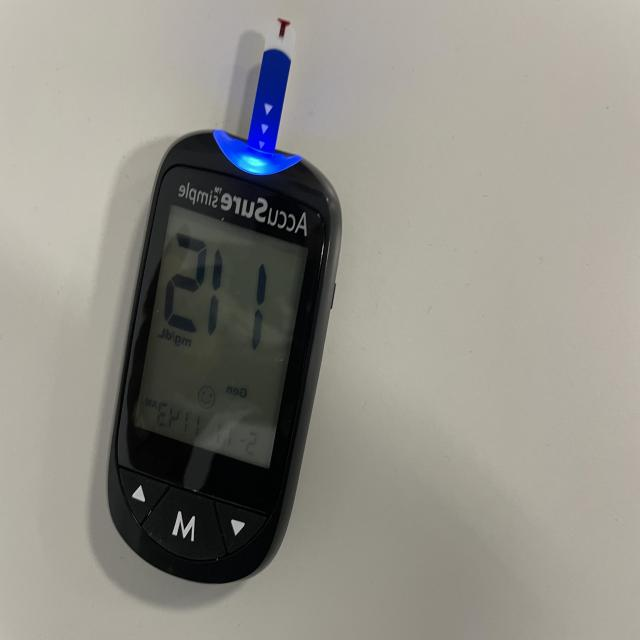gluco: (103, 51, 342, 589)
